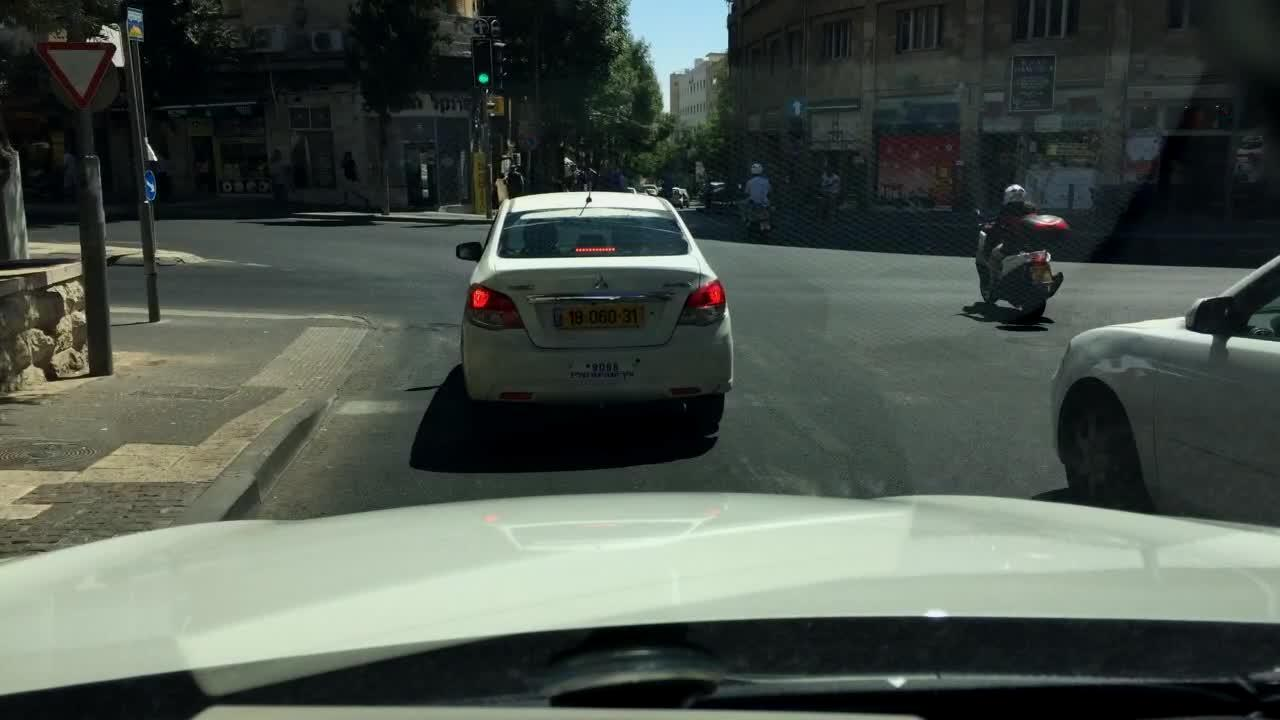Mitsubishi: (589, 270, 611, 296)
